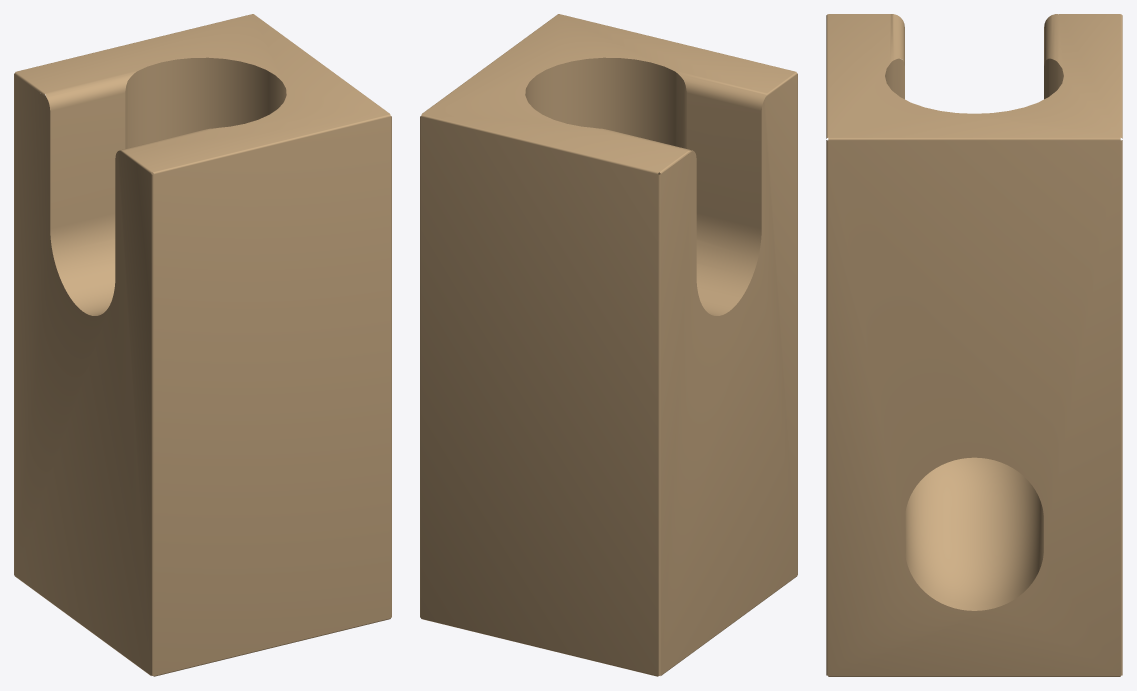
Rendered from blk_redirect_l1.glb.
3 renders of one model, left to right at view 1: azimuth 30°, elevation 25°; view 2: azimuth 150°, elevation 25°; view 3: azimuth 270°, elevation 25°, orthographic. The views are drawn at different scales.
Parts seen in each view (by area): view 1: blk_redirect_l1_lod0; view 2: blk_redirect_l1_lod0; view 3: blk_redirect_l1_lod0.
Boxes of the visible parts, left/top/right/bottom form: blk_redirect_l1_lod0: left=14, top=14, right=391, bottom=676; blk_redirect_l1_lod0: left=420, top=14, right=797, bottom=676; blk_redirect_l1_lod0: left=826, top=14, right=1122, bottom=676.
Size of what is drawn, in the model's own units: 0.0596 by 0.1196 by 0.0596.
